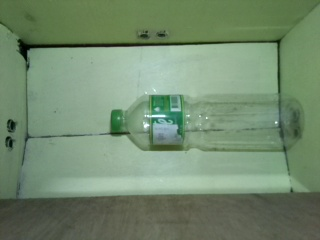bottle: (110, 92, 305, 153)
